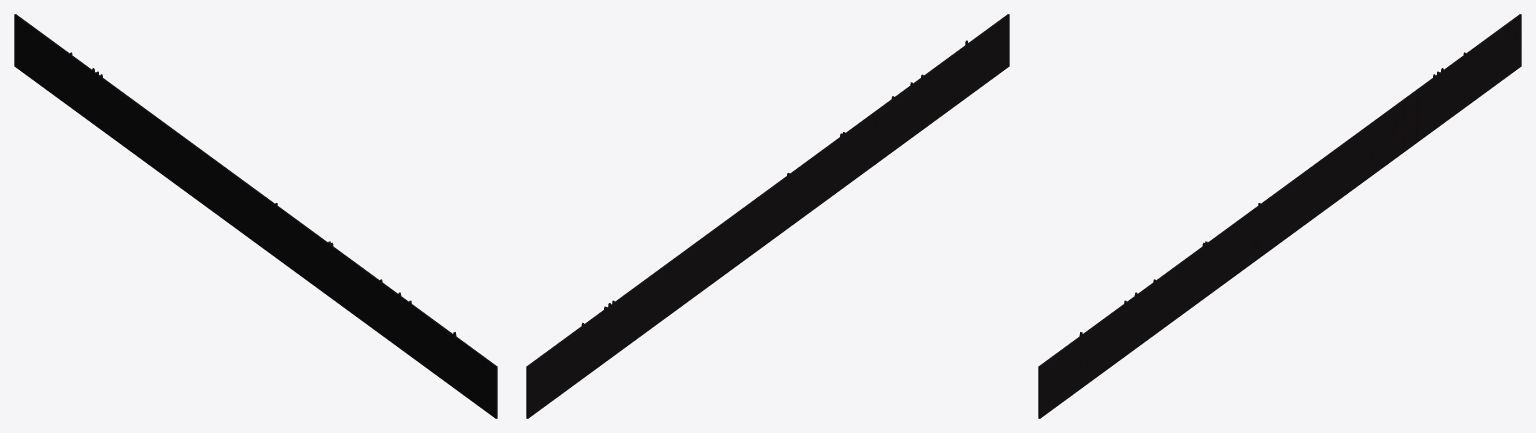
Rendered from Borde.fbx.
3 renders of one model, left to right at view 1: azimuth 30°, elevation 25°; view 2: azimuth 150°, elevation 25°; view 3: azimuth 330°, elevation 25°, orthographic.
Visible parts, largest first — view 1: Plane.001; view 2: Plane.001; view 3: Plane.001.
Boxes of the visible parts, bbox=[...] form: Plane.001: bbox=[14, 14, 497, 418]; Plane.001: bbox=[526, 14, 1009, 418]; Plane.001: bbox=[1038, 14, 1521, 418].
Size of the model in its own units: 5.58 by 194 by 3019.
